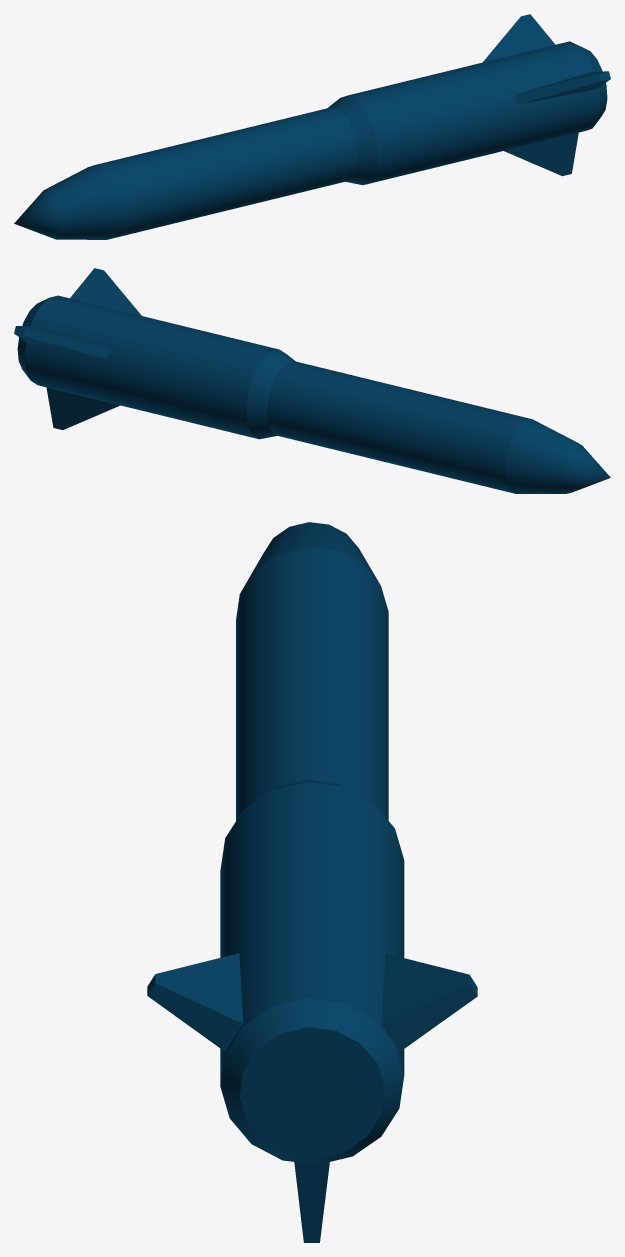
Rendered from Small_missile_v1.FBX.
3 renders of one model, top to bottom at view 1: azimuth 30°, elevation 25°; view 2: azimuth 150°, elevation 25°; view 3: azimuth 270°, elevation 25°, orthographic. The views are drawn at different scales.
Parts seen in each view (by area): view 1: Small_missile_v1; view 2: Small_missile_v1; view 3: Small_missile_v1.
Part boxes in pixels (x1,y1,x2,y2): Small_missile_v1: (14, 14, 610, 239); Small_missile_v1: (14, 268, 610, 493); Small_missile_v1: (147, 522, 477, 1242).
Bounding box in the file's own units: 13.87 × 2.99 × 3.45.
